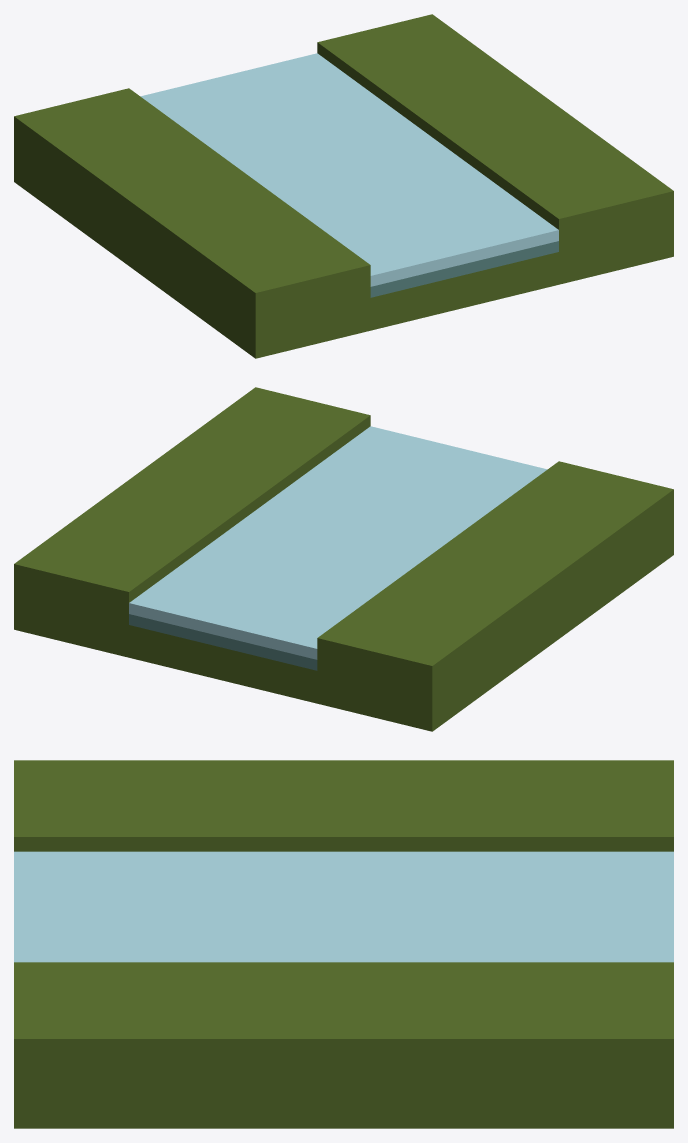
Rendered from river001.obj.
3 views of the same model, one above another, from view 1: azimuth 30°, elevation 25°; view 2: azimuth 150°, elevation 25°; view 3: azimuth 270°, elevation 25° (orthographic). The views are drawn at different scales.
Size of the model in its own units: 4 by 0.6 by 4.
Materials: 1 (1 with a texture image).
